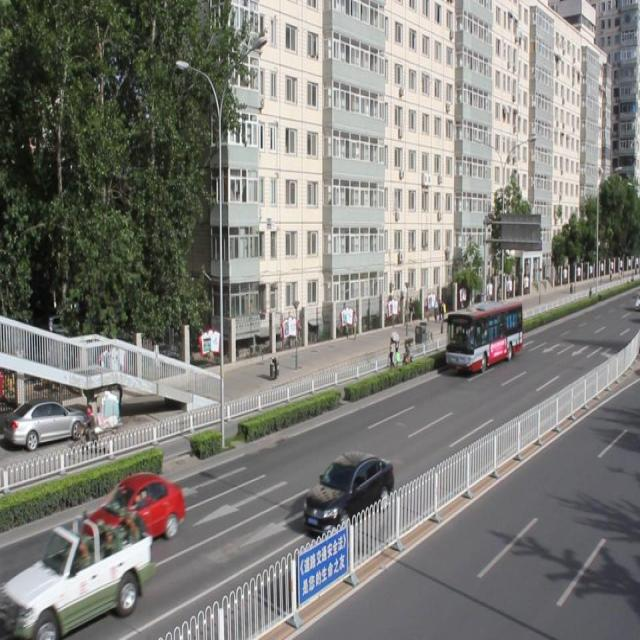car: (11, 518, 150, 640), (80, 468, 184, 551), (302, 448, 394, 538)
van: (445, 297, 521, 368)
